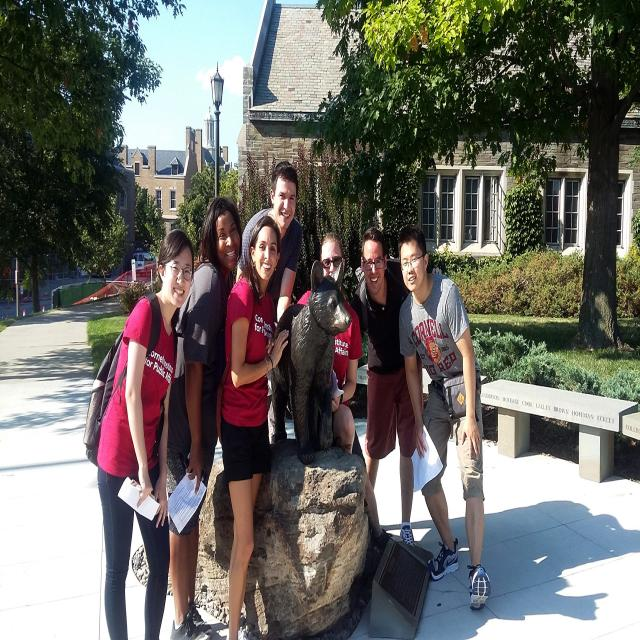body: (80, 225, 196, 640), (386, 467, 639, 640), (396, 220, 496, 614), (157, 192, 244, 639), (296, 230, 396, 561), (218, 213, 290, 639), (348, 224, 432, 549), (234, 158, 305, 447)
